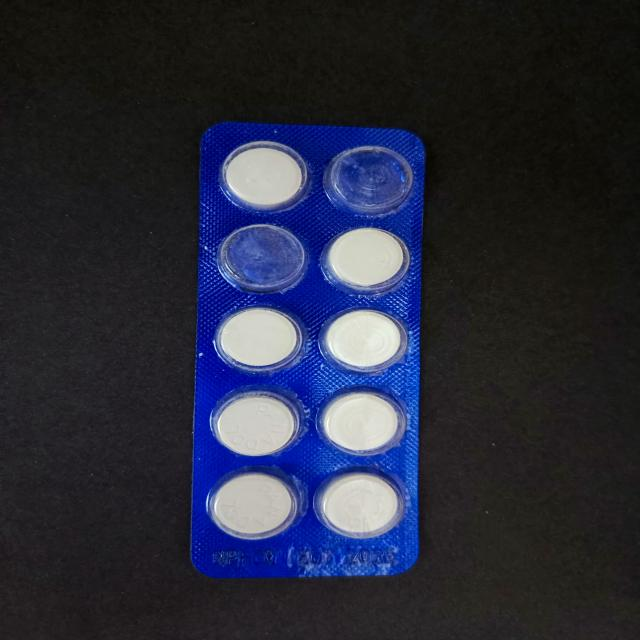defect: (322, 132, 418, 220), (210, 219, 310, 297)
